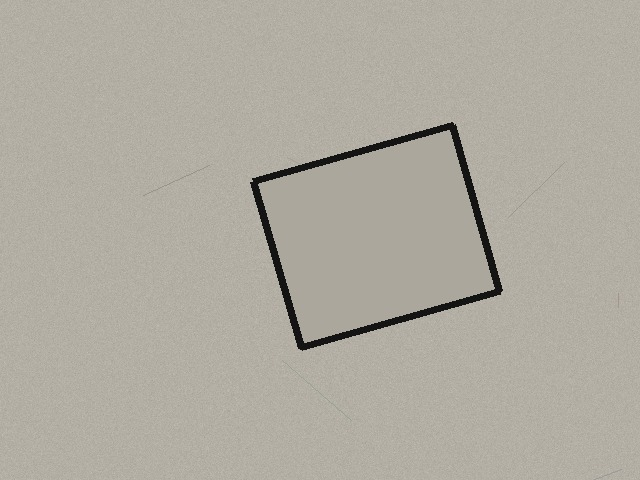parking_area: (253, 125, 499, 347)
